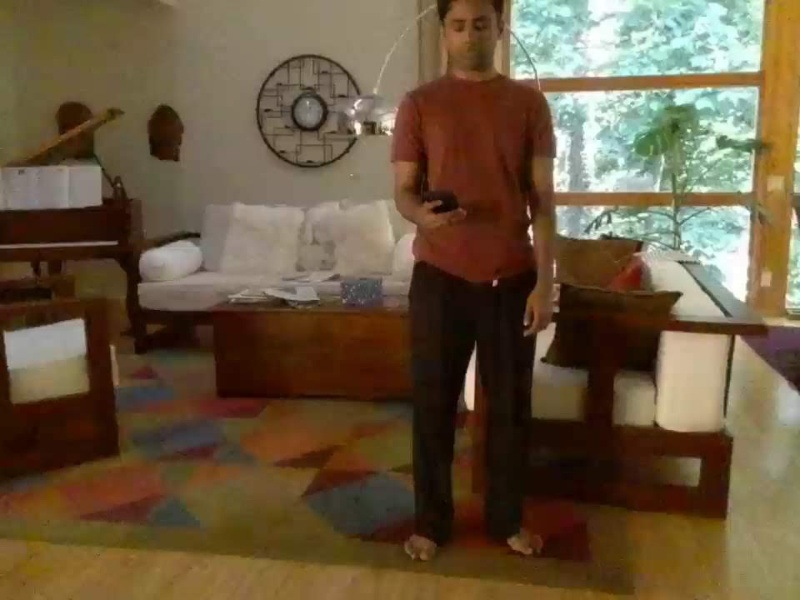nihad: (374, 1, 567, 563)
